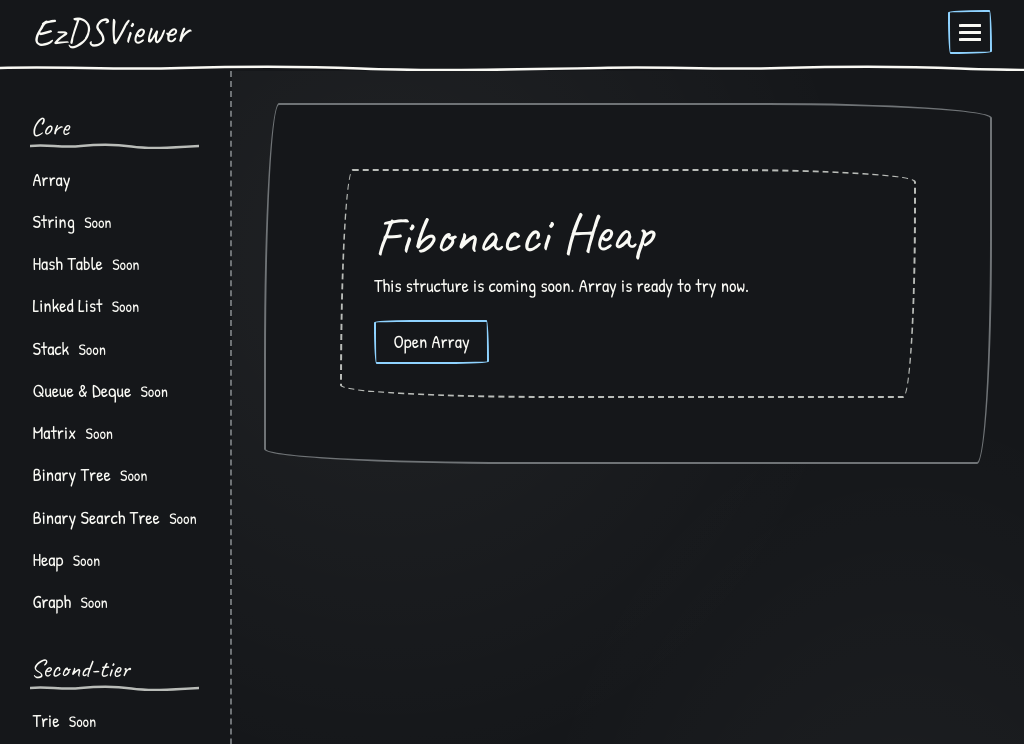
it: theme menu › Escape closes the menu and returns focus to the button
Click the button named "Choose style" at (970, 32), box [948,10,992,54]
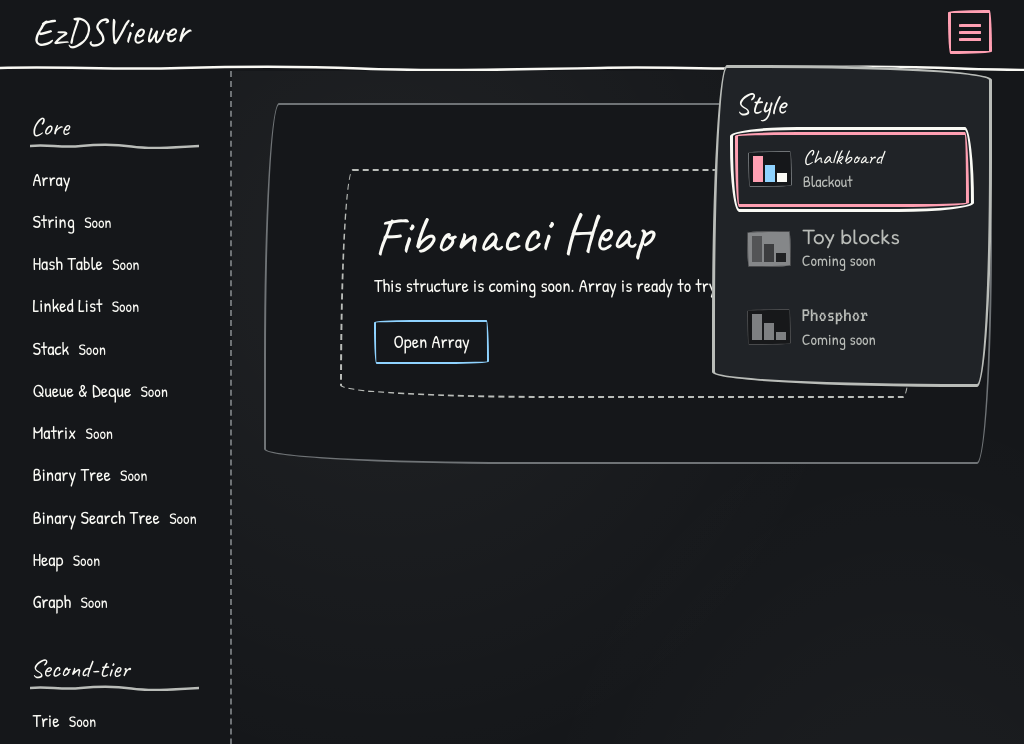
Press Escape
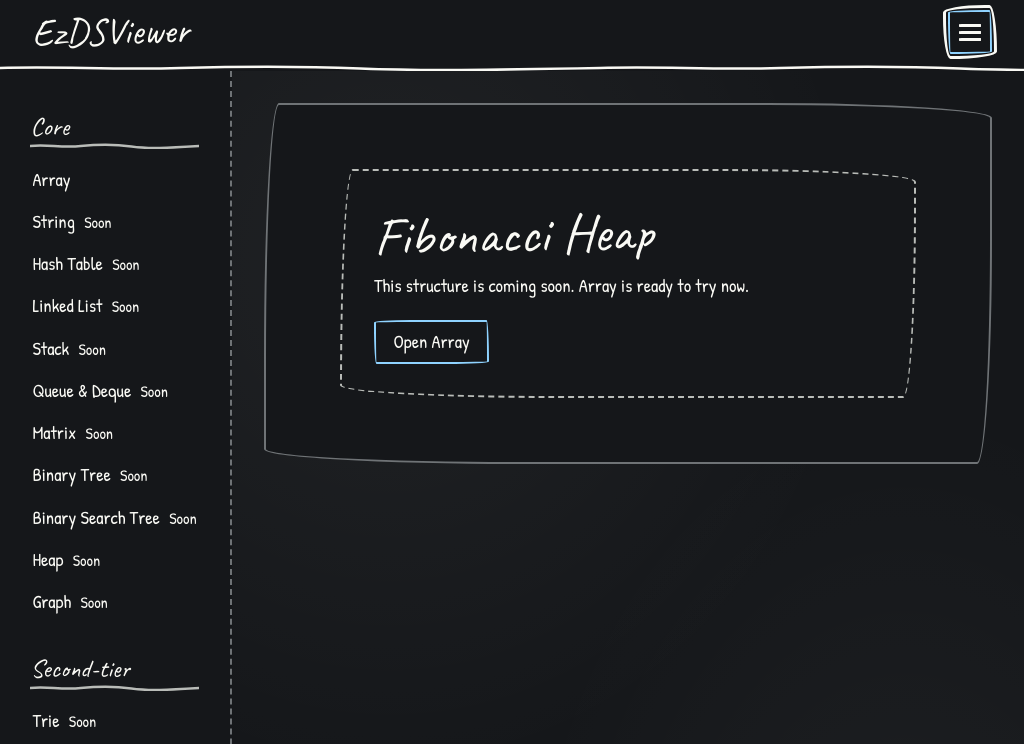
Check: the radio button is gone
